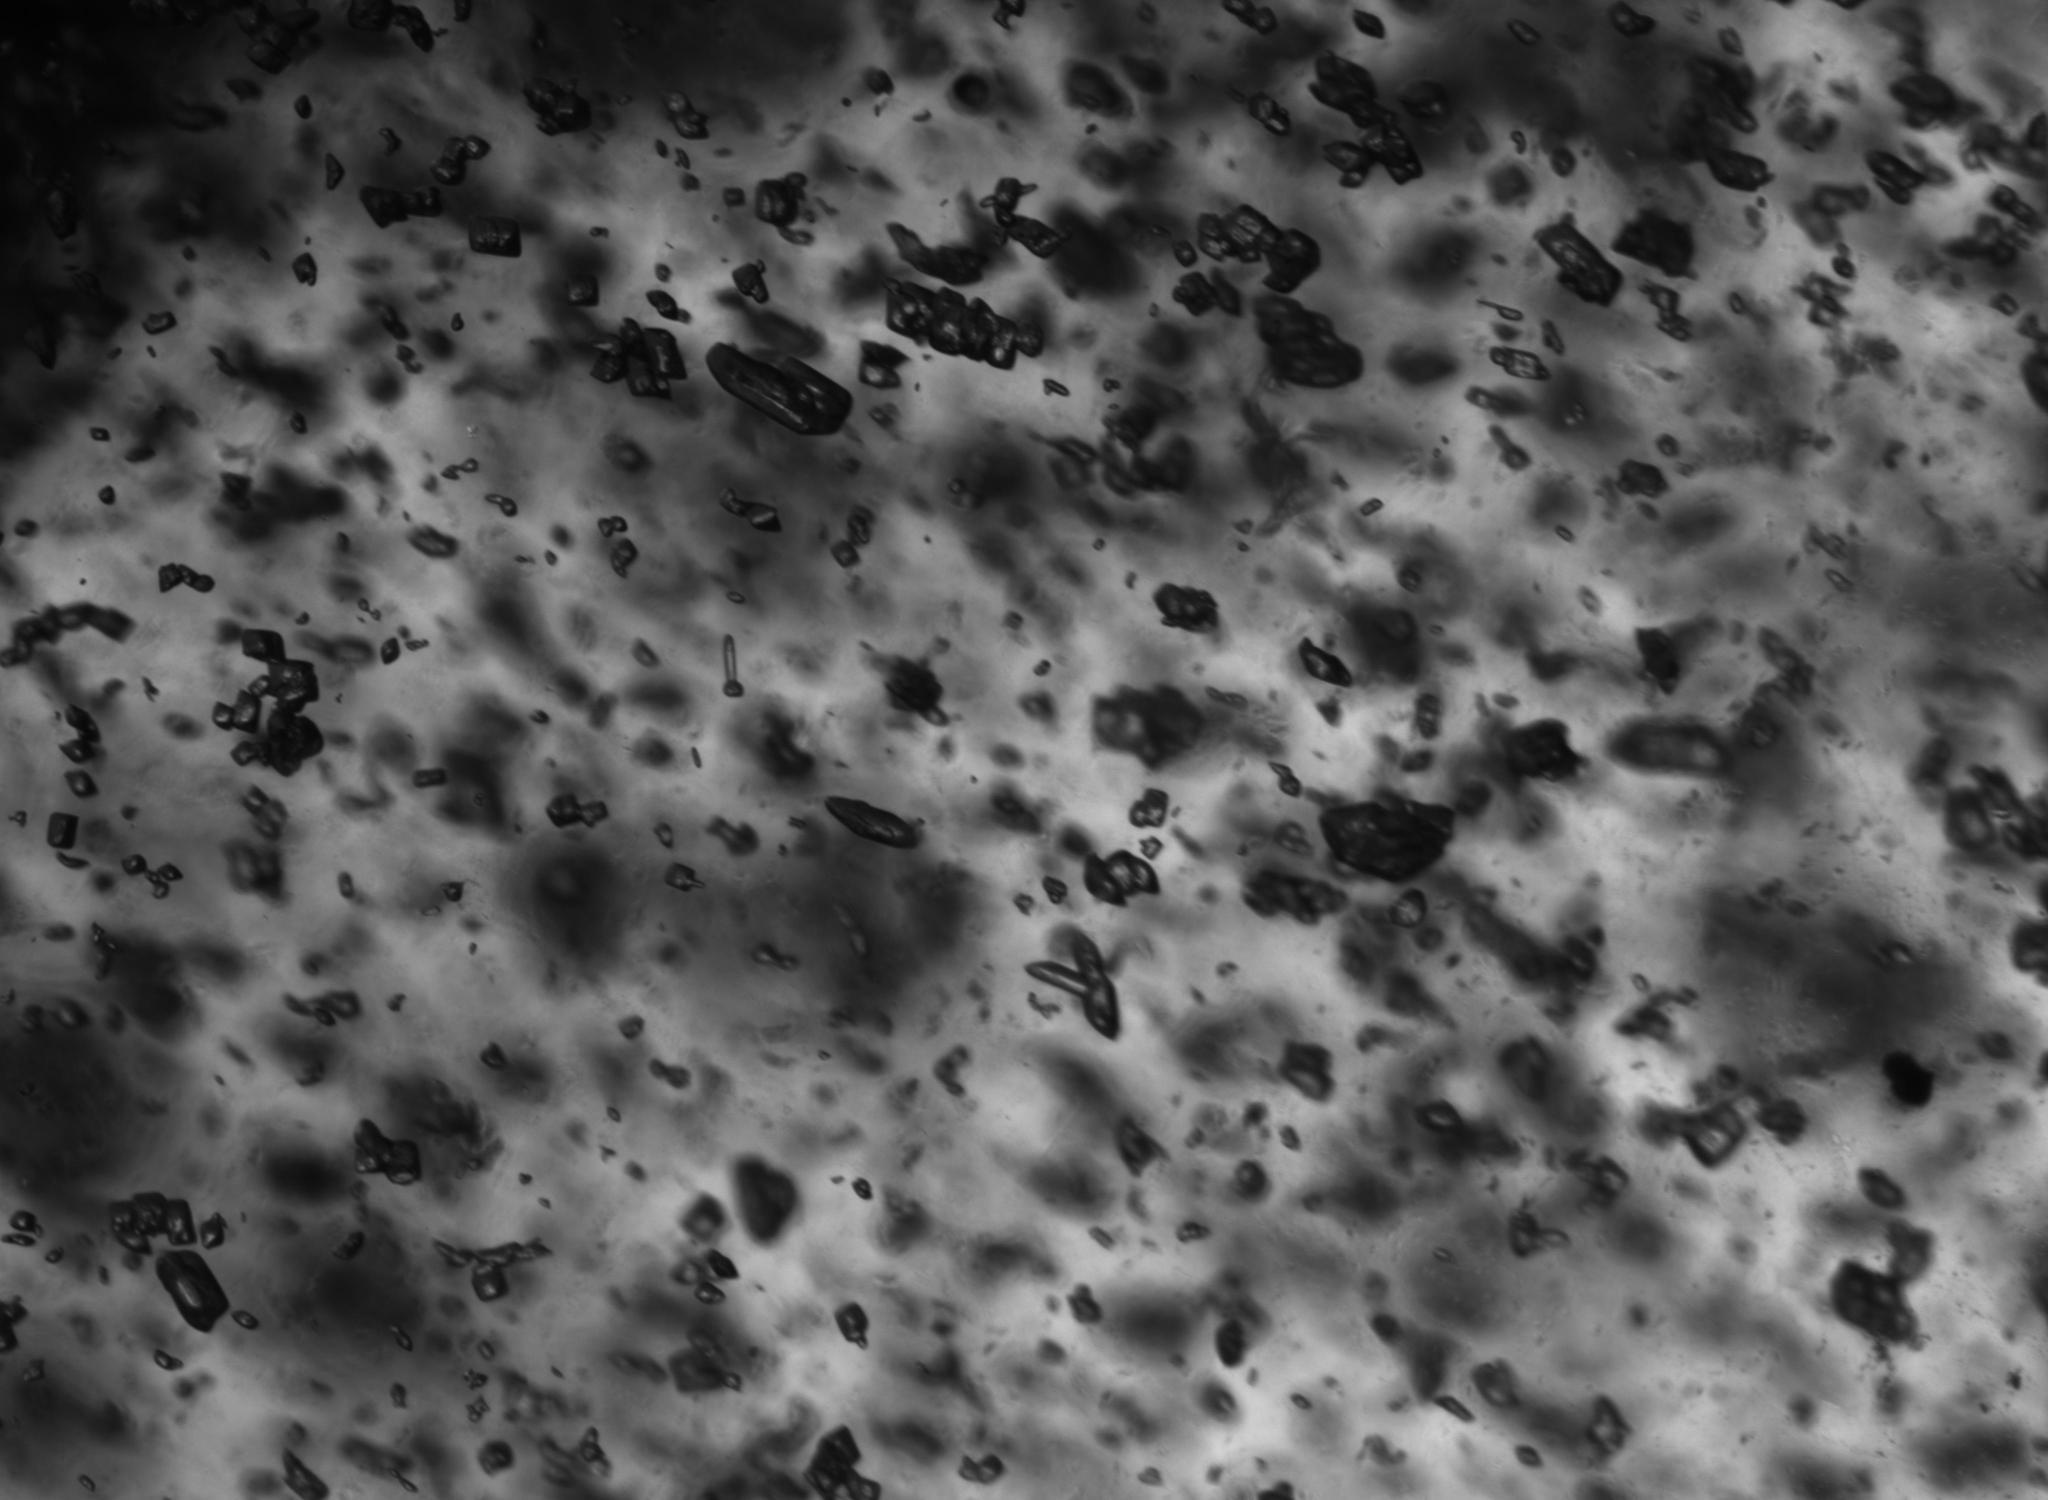crystal: (213, 627, 321, 776), (1310, 56, 1422, 186), (886, 282, 1041, 369), (706, 344, 852, 436), (1320, 797, 1455, 883), (1197, 204, 1320, 293), (1026, 934, 1121, 1039), (1255, 294, 1361, 388), (1092, 686, 1208, 767), (0, 603, 132, 665), (1536, 215, 1622, 305), (592, 320, 687, 399), (437, 1239, 550, 1301), (1830, 1261, 1916, 1343), (889, 224, 999, 285), (156, 1249, 229, 1333), (803, 1425, 881, 1500), (110, 1191, 197, 1252), (666, 1328, 743, 1393), (824, 797, 921, 848), (1501, 719, 1581, 779), (1674, 1102, 1746, 1168), (356, 1118, 421, 1185), (884, 657, 948, 724), (1083, 851, 1159, 905), (525, 80, 592, 135), (995, 207, 1067, 258), (359, 185, 442, 226), (1153, 584, 1220, 633), (1795, 270, 1849, 328), (1280, 1042, 1332, 1101), (1584, 1395, 1630, 1462), (1868, 153, 1927, 204), (1883, 1051, 1935, 1107), (1296, 636, 1353, 687), (1705, 148, 1771, 191), (755, 172, 805, 229), (283, 989, 359, 1026), (434, 135, 490, 185), (1644, 285, 1692, 340), (242, 786, 288, 841), (1115, 1118, 1161, 1174), (122, 854, 181, 897), (720, 490, 781, 531), (59, 705, 100, 764), (596, 515, 638, 574), (859, 342, 908, 390), (1471, 1362, 1520, 1409), (283, 1449, 329, 1500), (832, 511, 871, 568), (979, 178, 1034, 220), (545, 792, 609, 827), (471, 220, 525, 259), (1490, 345, 1549, 380), (1172, 270, 1218, 315), (665, 94, 708, 138), (156, 562, 215, 593), (1415, 1099, 1466, 1136), (1619, 460, 1668, 496), (1248, 94, 1291, 135), (1490, 428, 1531, 471), (407, 525, 458, 558), (576, 1427, 609, 1476), (1129, 787, 1169, 827), (731, 262, 770, 304), (835, 1303, 870, 1347), (957, 1452, 1005, 1484), (0, 1298, 27, 1354), (1391, 889, 1428, 927), (1067, 1284, 1102, 1323), (722, 635, 744, 697), (479, 1440, 515, 1476), (647, 290, 688, 321), (46, 811, 78, 851), (1267, 764, 1302, 795), (665, 862, 701, 892), (611, 538, 638, 577), (704, 1249, 738, 1280), (10, 1210, 40, 1245), (200, 1214, 227, 1249), (568, 278, 599, 307), (1716, 25, 1744, 57), (1170, 239, 1200, 267), (1507, 21, 1541, 46), (65, 771, 97, 797), (480, 1043, 509, 1071), (388, 1323, 415, 1352), (631, 639, 660, 666), (696, 1280, 725, 1308), (291, 255, 316, 285), (485, 493, 517, 517), (324, 154, 345, 191), (412, 768, 448, 789), (1177, 1220, 1210, 1242), (444, 458, 479, 479), (154, 1347, 184, 1371), (466, 1393, 490, 1424), (145, 312, 176, 334), (1043, 875, 1067, 903), (619, 1015, 644, 1040), (1991, 293, 2018, 317), (1286, 1390, 1313, 1414), (437, 881, 464, 903), (380, 636, 401, 665), (876, 0, 917, 14), (654, 822, 676, 848), (1138, 837, 1164, 859), (232, 1309, 259, 1330), (390, 1379, 407, 1409), (1043, 377, 1070, 396), (722, 186, 746, 207), (339, 872, 356, 899), (13, 519, 37, 538), (1358, 498, 1383, 515), (852, 1177, 871, 1199), (289, 412, 307, 434), (674, 148, 692, 170), (89, 426, 111, 442), (99, 485, 116, 504), (1555, 525, 1574, 541), (690, 746, 703, 768), (655, 138, 669, 157), (450, 312, 464, 331), (517, 1172, 533, 1185), (658, 821, 668, 830)
